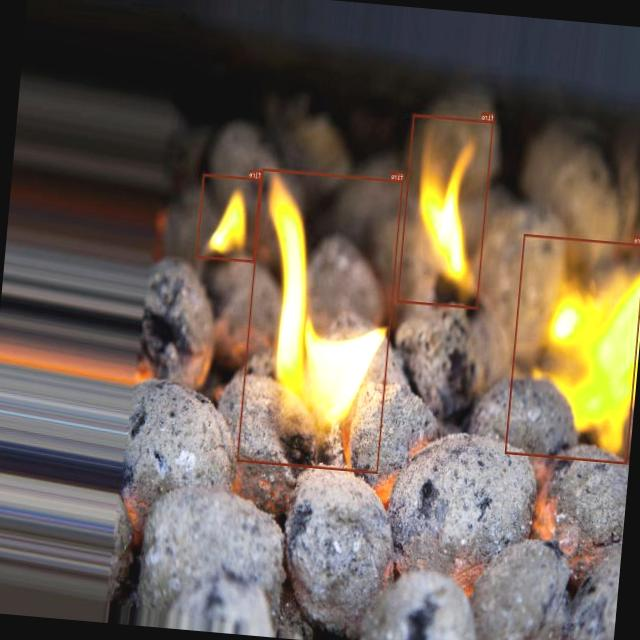fire: (236, 168, 404, 472), (504, 233, 640, 463), (396, 114, 494, 308), (196, 172, 261, 262)
